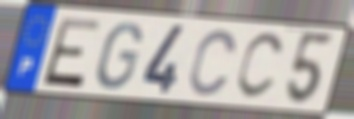4: (139, 22, 185, 97)
5: (282, 29, 337, 110)
C: (233, 31, 288, 103), (186, 27, 240, 99)
E: (39, 16, 104, 91)
G: (94, 21, 144, 92)
